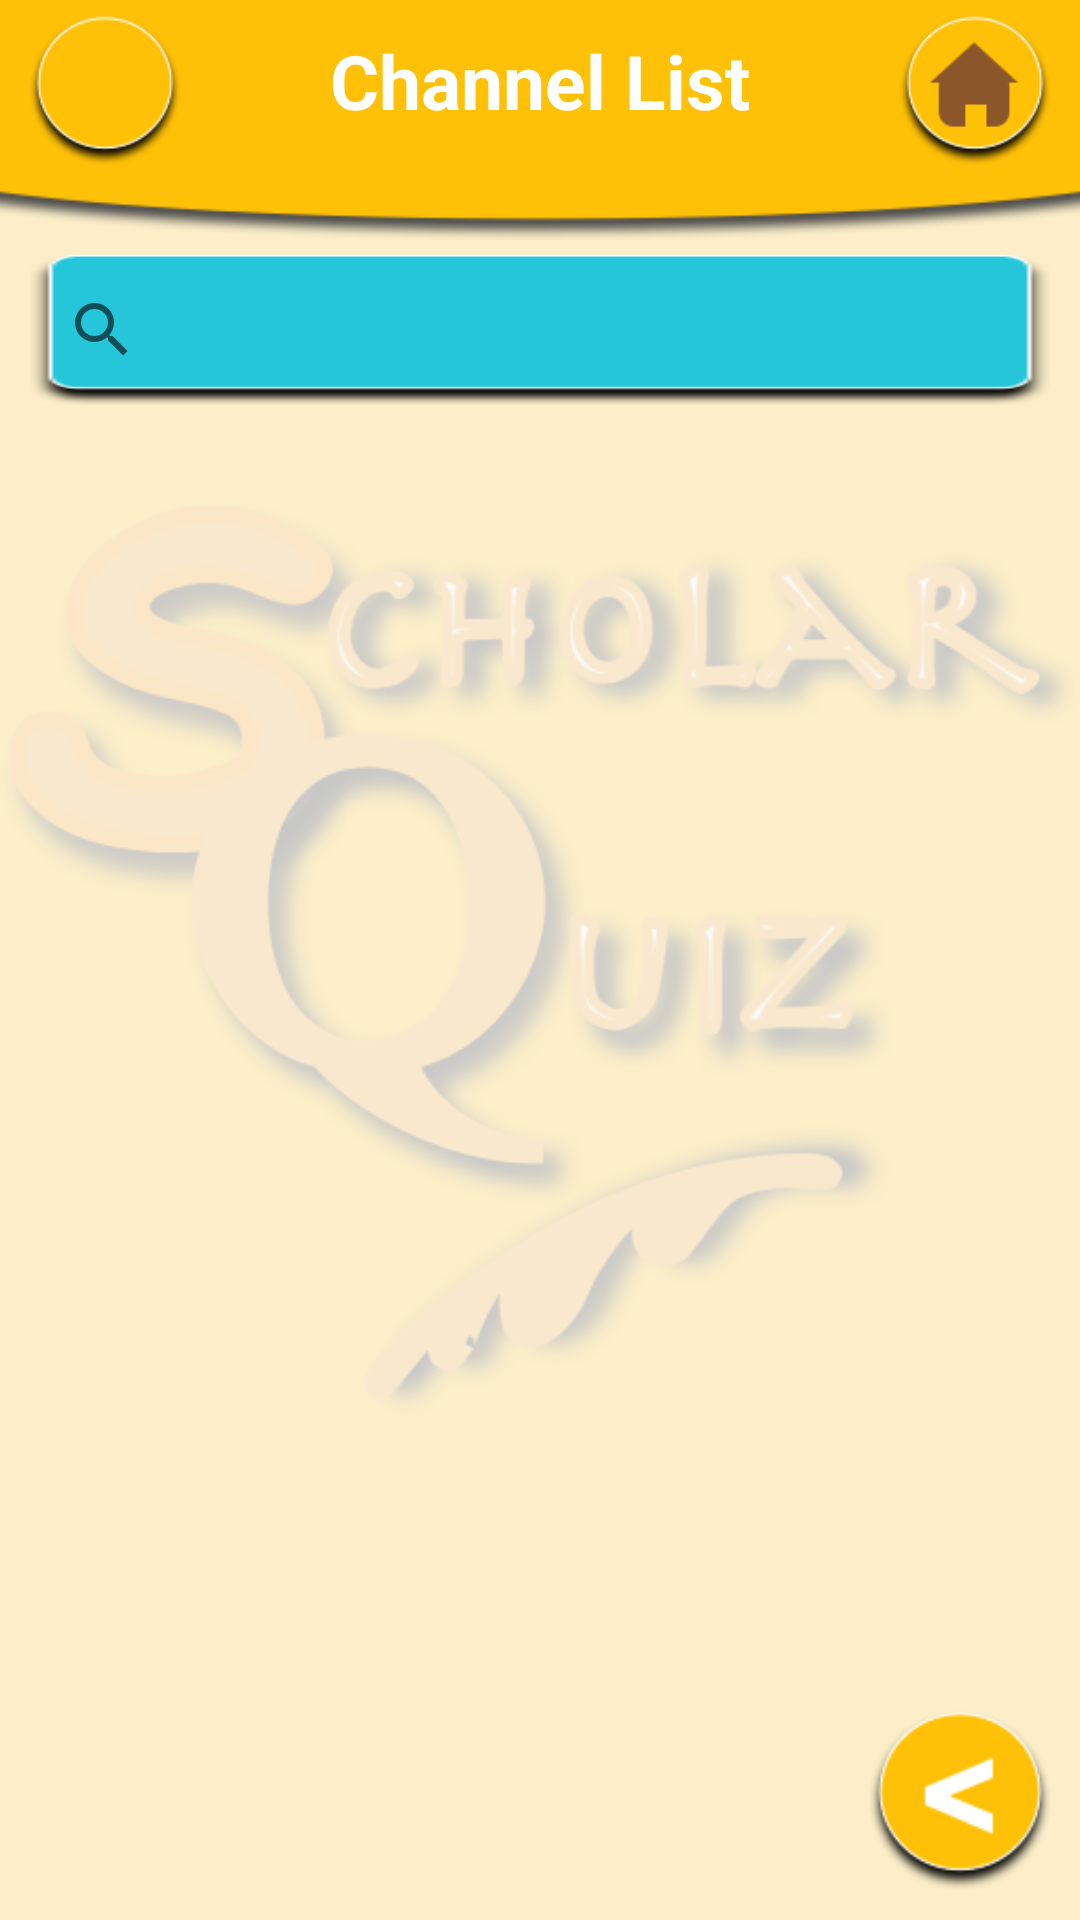

Point at icon controls on the screen. Image size 1080×1920, points as [x,y].
backbutton: [960,1800]
home brown: [975,89]
